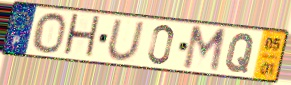0: (147, 23, 176, 66)
H: (61, 12, 103, 61)
M: (180, 24, 229, 75)
O: (31, 11, 68, 55)
Q: (224, 32, 257, 75)
U: (105, 19, 147, 64)
